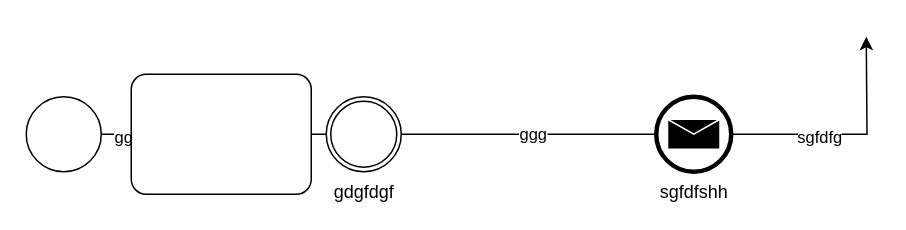
Image size: 906x230. Some labels were removed from this diagram. Each missing label, with the centre of its shape:
fdgfgd: the point at 63,133
fdgfsg: the point at 220,133
